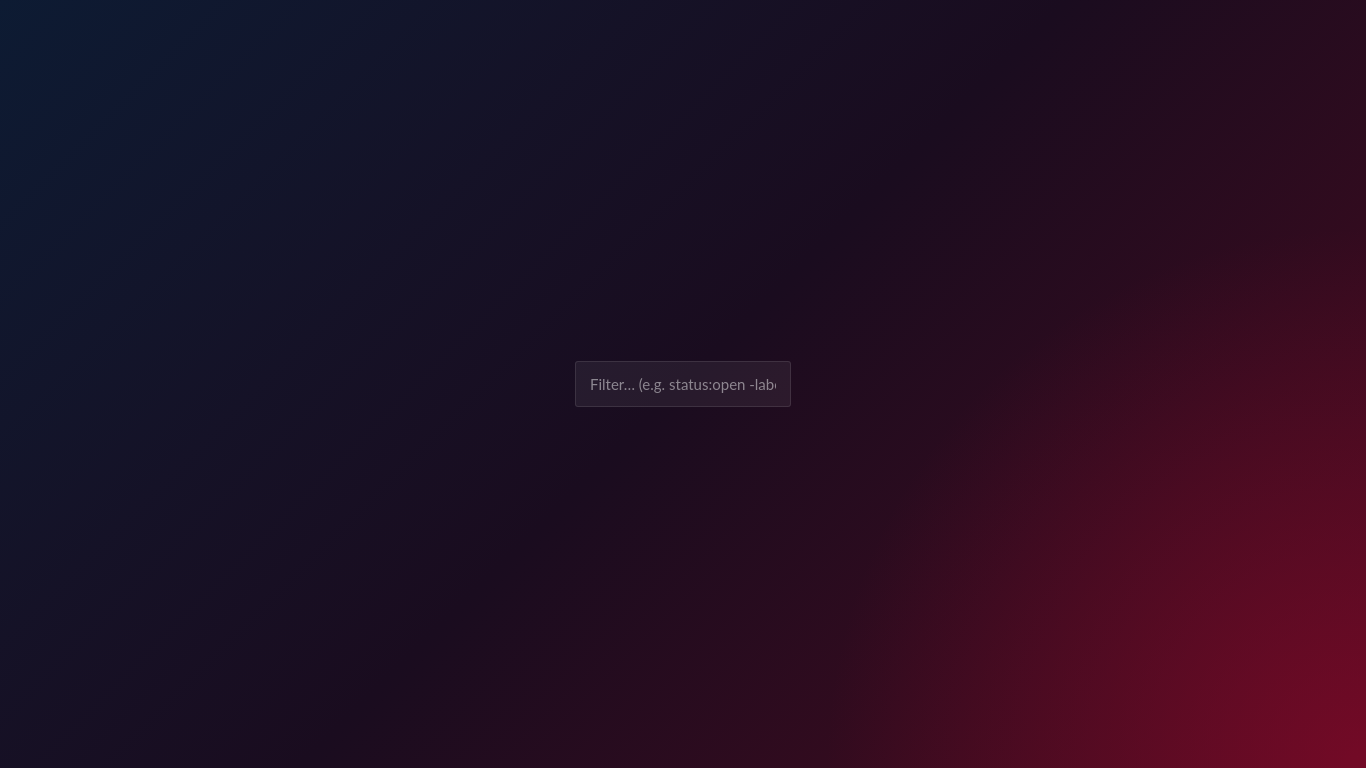
Test: FilterBar › autocompletes field names then values with the keyboard
Later steps or results of the test are not shown.
In the dropdown labelled "Filter": (683, 384) [590,372,776,396], type "sta"
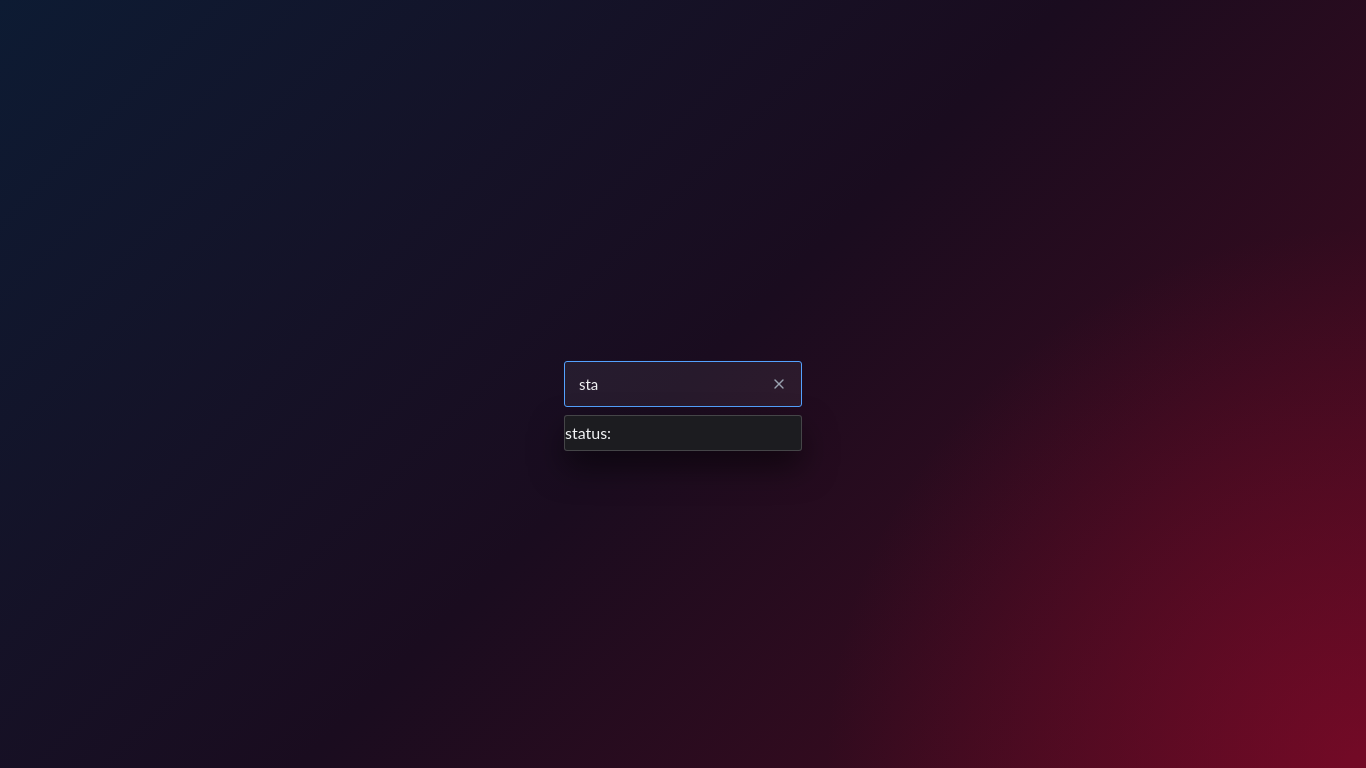
Expected: the option "status:" is shown, [565,423,611,442]
Press Tab
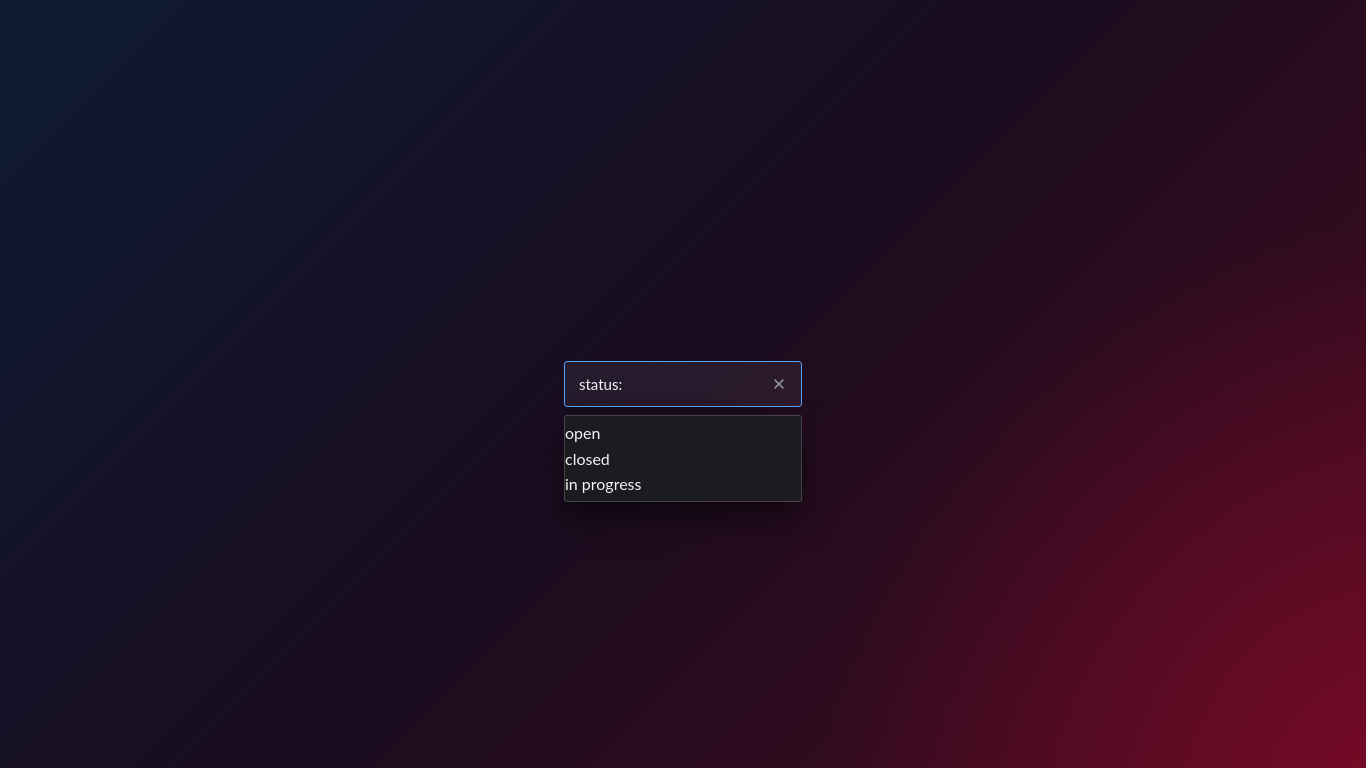
Expected: the dropdown named "Filter" holds "status:", [579,372,765,396]
Expected: the options read "open", "closed", "in progress", in this order, [565,423,600,442]; [565,449,610,468]; [565,474,642,493]
